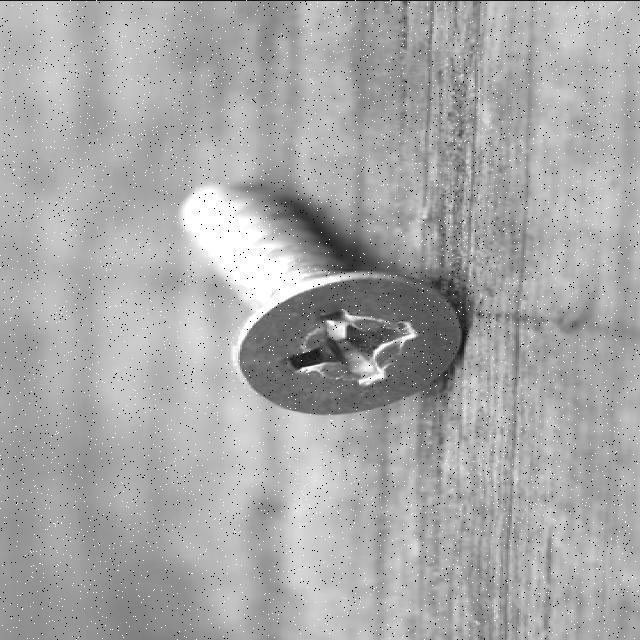Phillips: (233, 274, 467, 414)
